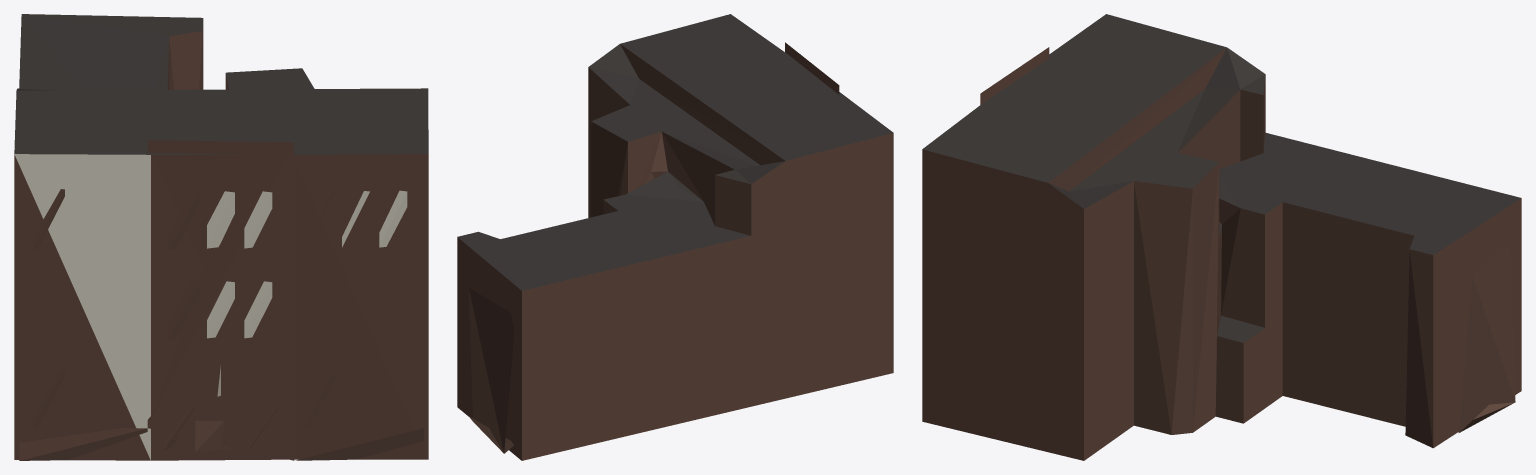
The model's file is oostenburgergracht-15.lod2.glb.
3 views of the same model, side by side, from view 1: azimuth 30°, elevation 25°; view 2: azimuth 150°, elevation 25°; view 3: azimuth 270°, elevation 25° (orthographic). The views are drawn at different scales.
Visible parts, largest first — view 1: lod2; view 2: lod2; view 3: lod2.
Boxes of the visible parts, x1,y1,x2,y2 form: lod2: [14, 14, 428, 460]; lod2: [457, 14, 893, 460]; lod2: [922, 14, 1521, 460].
Size of the model in its own units: 23.71 by 17.98 by 34.43.
